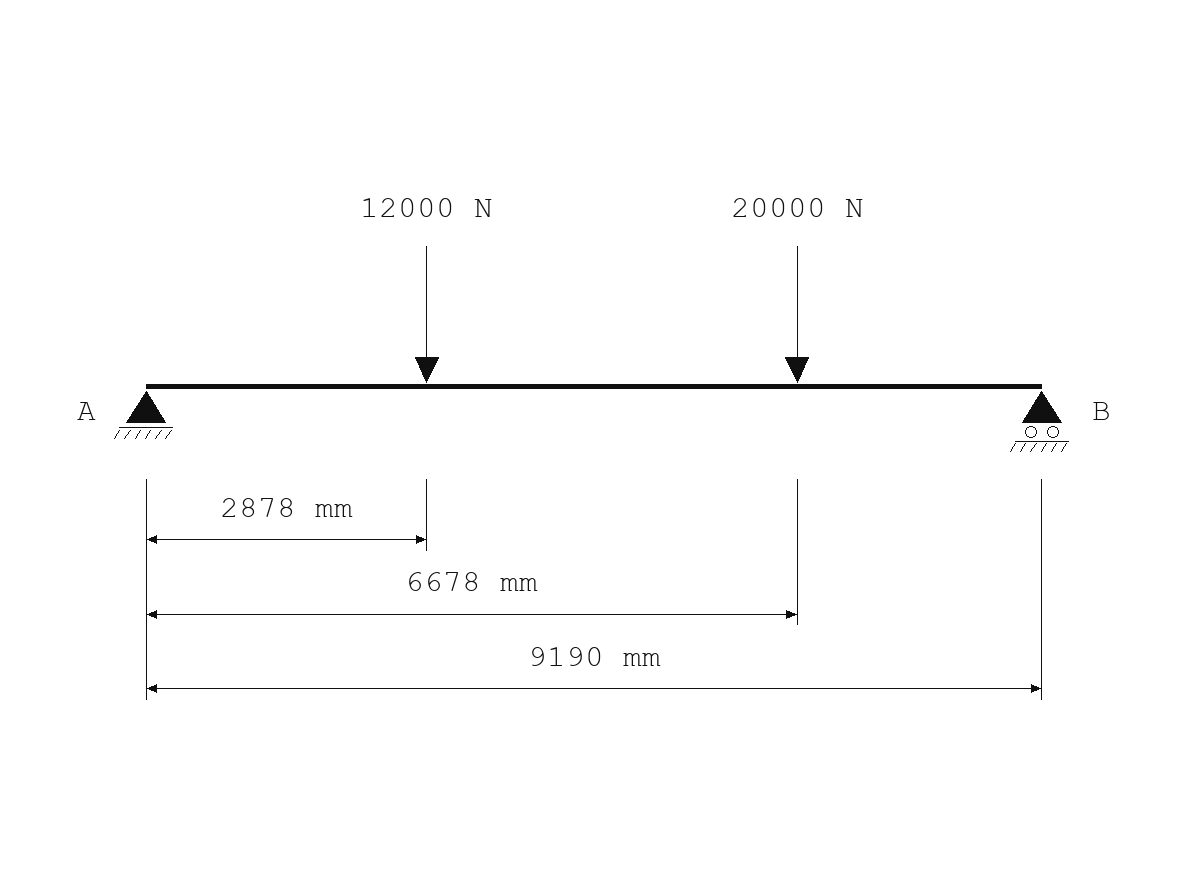pin_support: (114, 391, 173, 439)
point_load: (415, 246, 439, 383), (785, 246, 809, 383)
roller_support: (1010, 391, 1069, 452)
